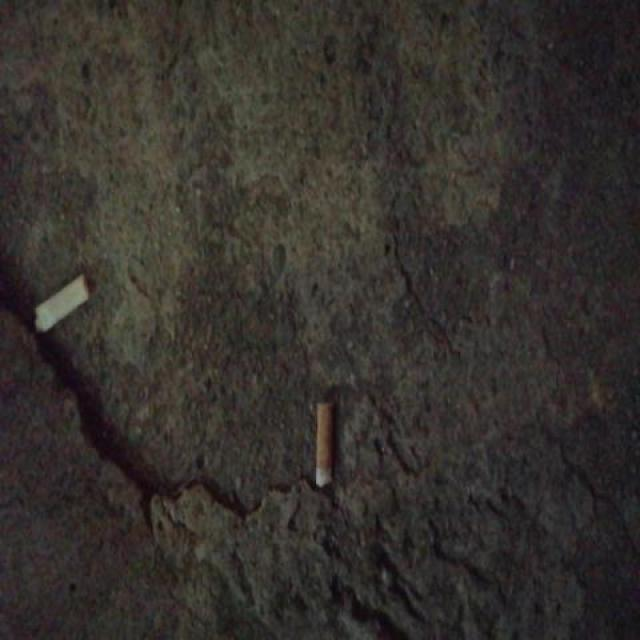non-organic waste: (32, 271, 93, 342), (310, 397, 338, 492)
